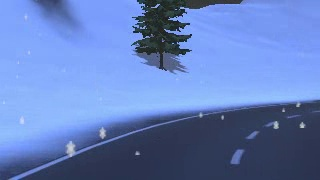Lane: (11, 101, 319, 179)
